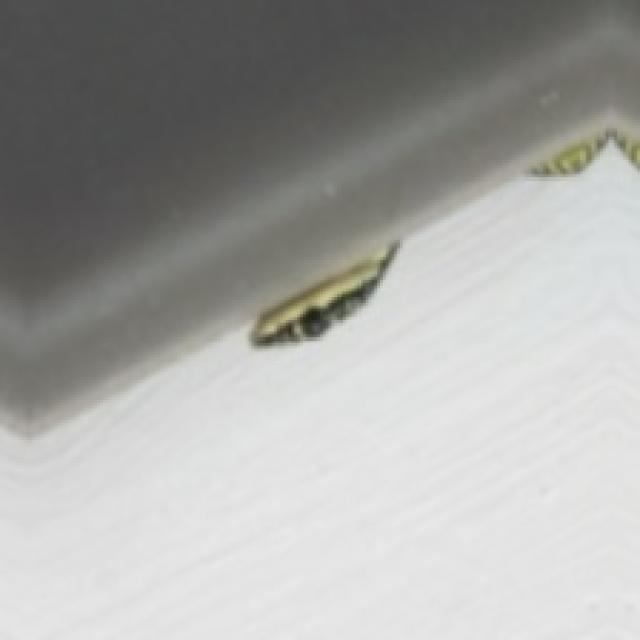paradise tree snake: (251, 243, 397, 343), (531, 130, 640, 175)
